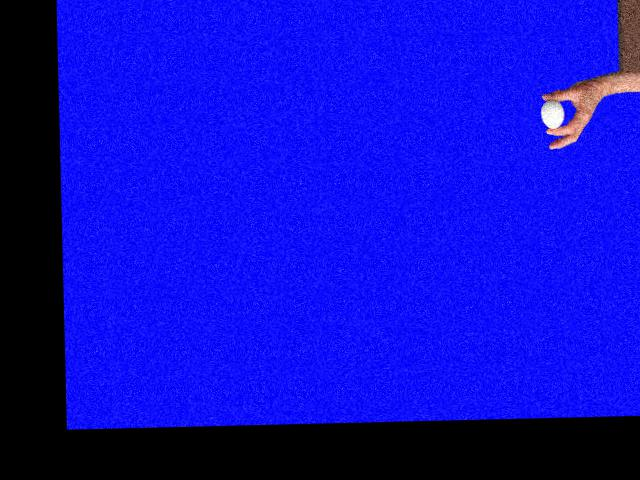egg: (540, 99, 564, 129)
